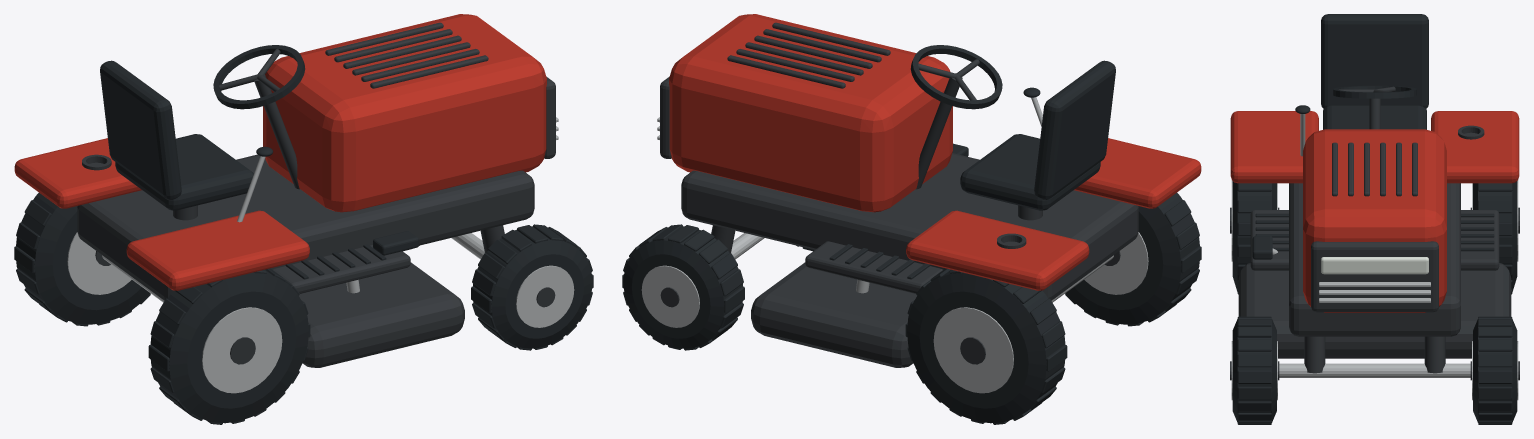
Rendered from A-NEW-20261026-RIDING-MOWER-001_LOD1_R5.glb.
The picture shows the model from 3 angles, left to right: view 1: azimuth 30°, elevation 25°; view 2: azimuth 150°, elevation 25°; view 3: azimuth 270°, elevation 25°; orthographic projection. The views are drawn at different scales.
Parts seen in each view (by area): view 1: sloping hood, main chassis, treaded tire.002, wide low mower deck, rear fender, open bucket back, treaded tire.003, treaded tire, rear fender.001, wheel rim.004, seat cushion, foot platform (+13 smaller); view 2: sloping hood, main chassis, treaded tire.003, wide low mower deck, rear fender.001, open bucket back, treaded tire.002, treaded tire.001, rear fender, wheel rim.007, seat cushion, foot platform.001 (+12 smaller); view 3: sloping hood, wide low mower deck, open bucket back, main chassis, front fascia, rear fender, rear fender.001, wheel axle, seat cushion, broad headlamp, foot platform.001, treaded tire (+37 smaller).
Part boxes in pixels (x1,y1,x2,y2): sloping hood: [263, 14, 546, 212]; main chassis: [77, 154, 534, 300]; treaded tire.002: [150, 269, 308, 423]; wide low mower deck: [299, 262, 464, 367]; rear fender: [126, 210, 309, 290]; open bucket back: [100, 60, 181, 199]; treaded tire.003: [16, 193, 150, 324]; treaded tire: [473, 226, 592, 348]; rear fender.001: [14, 138, 141, 208]; wheel rim.004: [202, 307, 282, 393]; seat cushion: [115, 134, 253, 210]; foot platform: [273, 245, 410, 293]; sloping hood: [669, 14, 952, 212]; main chassis: [681, 153, 1138, 300]; treaded tire.003: [907, 269, 1065, 423]; wide low mower deck: [751, 262, 916, 367]; rear fender.001: [906, 210, 1089, 290]; open bucket back: [1034, 60, 1115, 199]; treaded tire.002: [1065, 193, 1199, 324]; treaded tire.001: [623, 226, 742, 348]; rear fender: [1074, 138, 1201, 208]; wheel rim.007: [933, 307, 1013, 393]; seat cushion: [960, 134, 1100, 210]; foot platform.001: [805, 241, 942, 293]; sloping hood: [1303, 129, 1446, 312]; wide low mower deck: [1238, 263, 1511, 358]; open bucket back: [1321, 14, 1428, 108]; main chassis: [1289, 183, 1460, 336]; front fascia: [1311, 241, 1438, 312]; rear fender: [1230, 111, 1318, 183]; rear fender.001: [1431, 111, 1519, 183]; wheel axle: [1279, 363, 1470, 377]; seat cushion: [1323, 105, 1426, 129]; broad headlamp: [1321, 257, 1428, 274]; foot platform.001: [1461, 210, 1499, 270]; treaded tire: [1232, 319, 1276, 422].
Bounding box in the file's own units: 1.13 × 0.7191 × 0.723.
